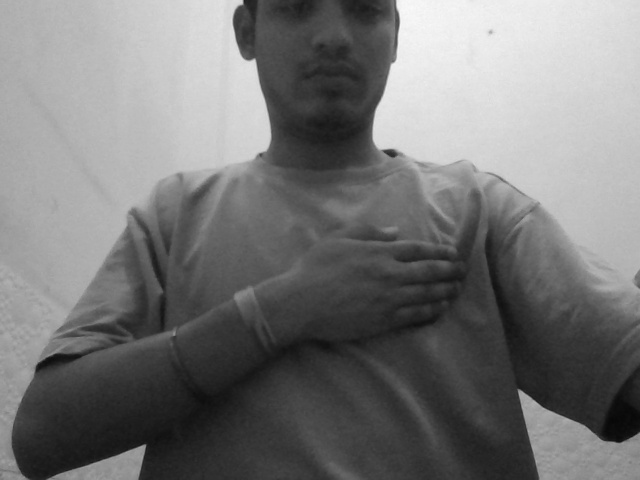Sorry: (276, 196, 500, 376)
